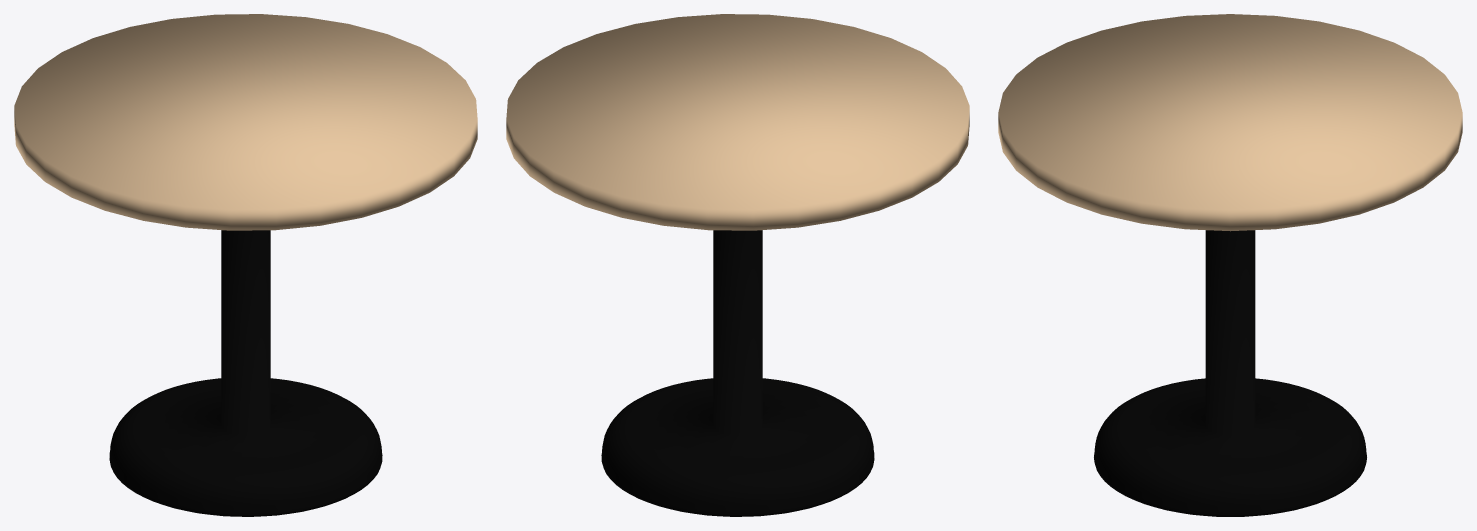
Rendered from round table.fbx.
The picture shows the model from 3 angles, left to right: view 1: azimuth 30°, elevation 25°; view 2: azimuth 150°, elevation 25°; view 3: azimuth 270°, elevation 25°; orthographic projection.
Visible parts, largest first — view 1: Round table; view 2: Round table; view 3: Round table.
Boxes of the visible parts, left/top/right/bottom form: Round table: left=14, top=14, right=477, bottom=516; Round table: left=506, top=14, right=969, bottom=516; Round table: left=998, top=14, right=1462, bottom=516.
Size of the model in its own units: 114 by 94.57 by 114.
